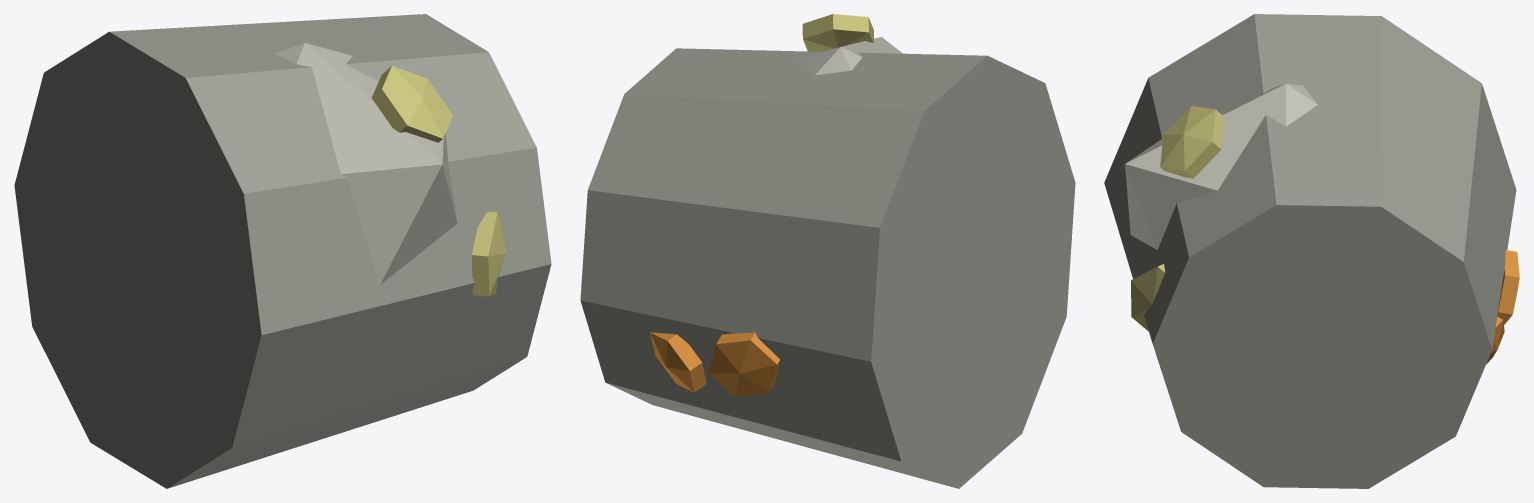
Rendered from stone_giant_arm_l.glb.
3 views of the same model, side by side, from view 1: azimuth 30°, elevation 25°; view 2: azimuth 150°, elevation 25°; view 3: azimuth 270°, elevation 25° (orthographic). The views are drawn at different scales.
Parts seen in each view (by area): view 1: stone_giant_arm_l; view 2: stone_giant_arm_l; view 3: stone_giant_arm_l.
Boxes of the visible parts, box(x1,y1,x2,y2) form: stone_giant_arm_l: box(14, 14, 551, 488); stone_giant_arm_l: box(580, 14, 1075, 488); stone_giant_arm_l: box(1104, 14, 1519, 488).
Bounding box in the file's own units: 0.2951 × 0.3261 × 0.3422.
